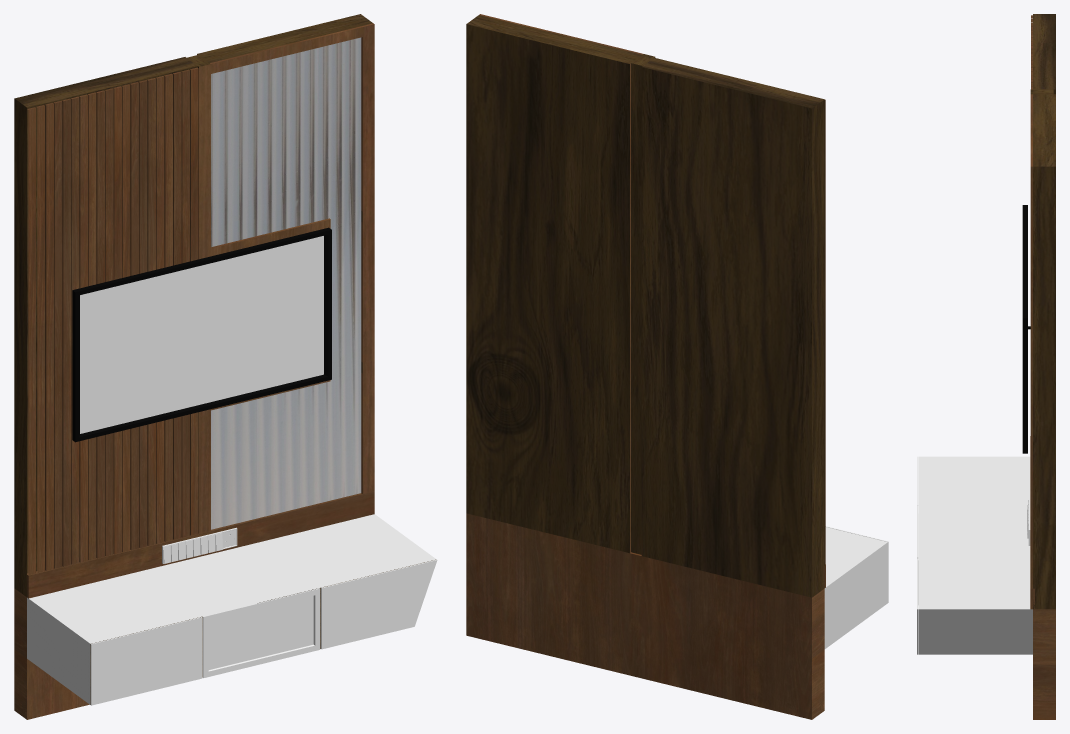
The picture shows the model from 3 angles, left to right: view 1: azimuth 30°, elevation 25°; view 2: azimuth 150°, elevation 25°; view 3: azimuth 270°, elevation 25°; orthographic projection. The views are drawn at different scales.
Visible parts, largest first — view 1: Circle; view 2: Circle; view 3: Circle.
Boxes of the visible parts, x1,y1,x2,y2 form: Circle: (14, 14, 437, 719); Circle: (466, 14, 888, 719); Circle: (917, 14, 1055, 719).
Bounding box in the file's own units: 1 × 1.7 × 0.3856.
Materials: 9 (3 with a texture image).
